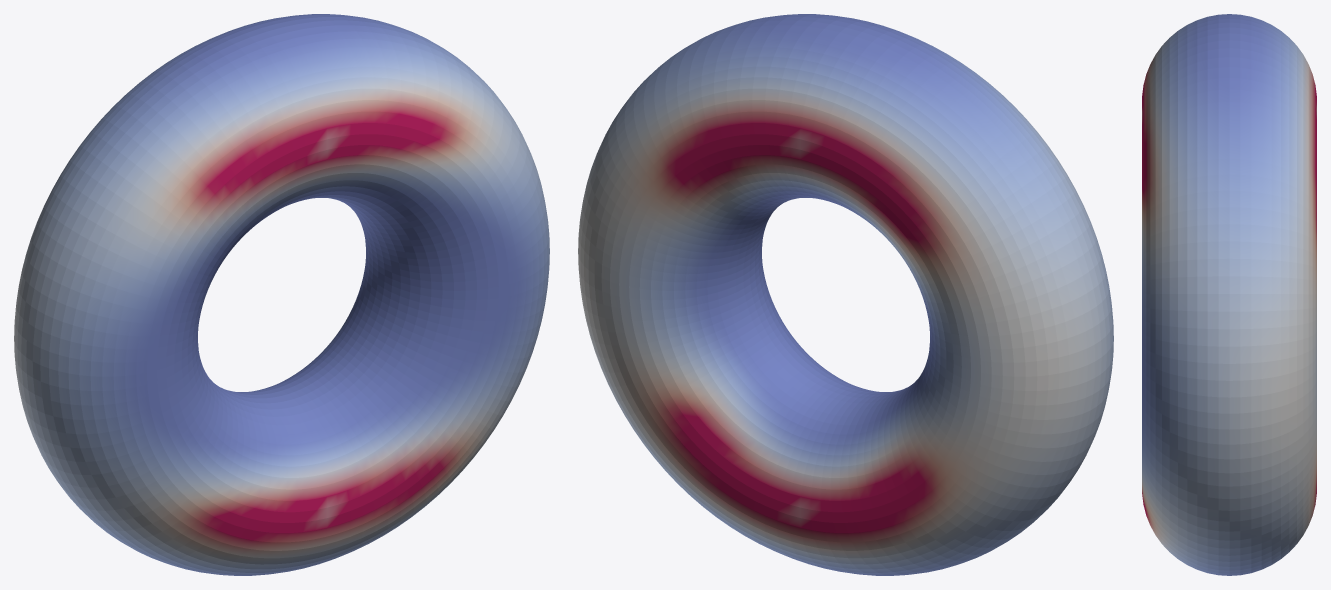
3 renders of one model, left to right at view 1: azimuth 30°, elevation 25°; view 2: azimuth 150°, elevation 25°; view 3: azimuth 270°, elevation 25°, orthographic. The views are drawn at different scales.
Visible parts, largest first — view 1: world; view 2: world; view 3: world.
Part boxes in pixels (<box>): world: <box>14,14,549,575</box>; world: <box>578,14,1113,575</box>; world: <box>1142,14,1316,575</box>.
Bounding box in the file's own units: 18.4 × 18.4 × 5.72.
